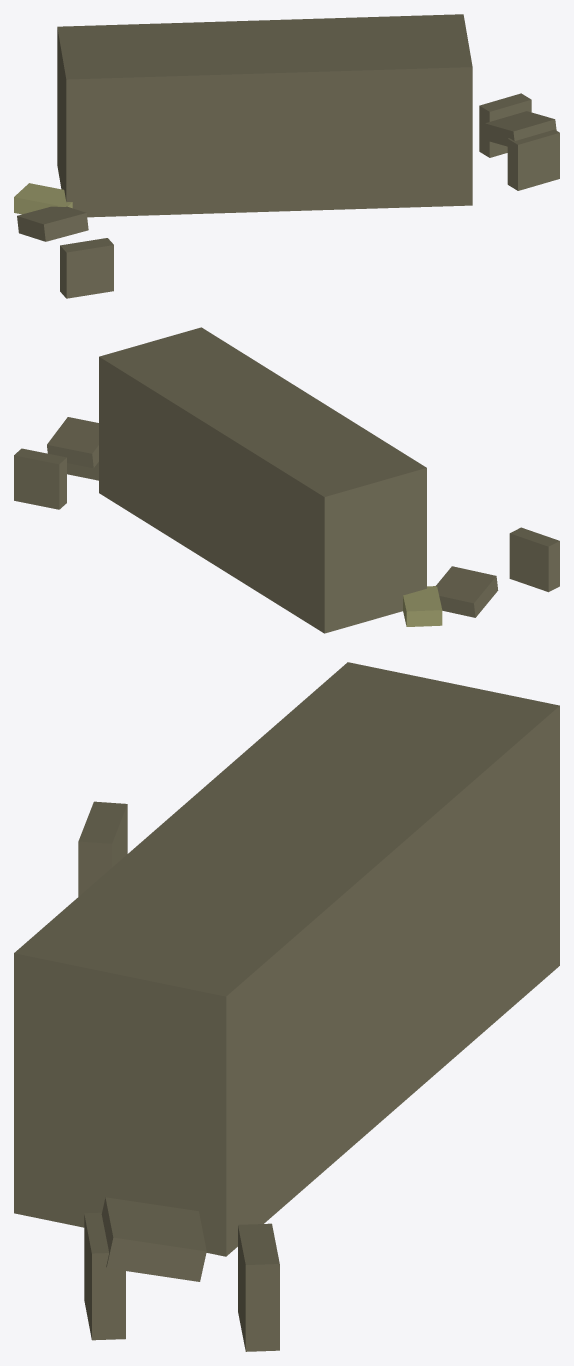
The model's file is SM_BarricadaCivil_v3_Furgoneta_e2_MuyDanado_LOD1.fbx.
3 views of the same model, one above another, from view 1: azimuth 30°, elevation 25°; view 2: azimuth 150°, elevation 25°; view 3: azimuth 270°, elevation 25° (orthographic). The views are drawn at different scales.
Visible parts, largest first — view 1: SM_barricada_civil_v14_LOD1; view 2: SM_barricada_civil_v14_LOD1; view 3: SM_barricada_civil_v14_LOD1.
Part boxes in pixels (bbox=[...]): SM_barricada_civil_v14_LOD1: bbox=[14, 14, 559, 298]; SM_barricada_civil_v14_LOD1: bbox=[14, 327, 559, 633]; SM_barricada_civil_v14_LOD1: bbox=[14, 662, 559, 1351].
Size of the model in its own units: 8.02 by 2.32 by 3.99.
